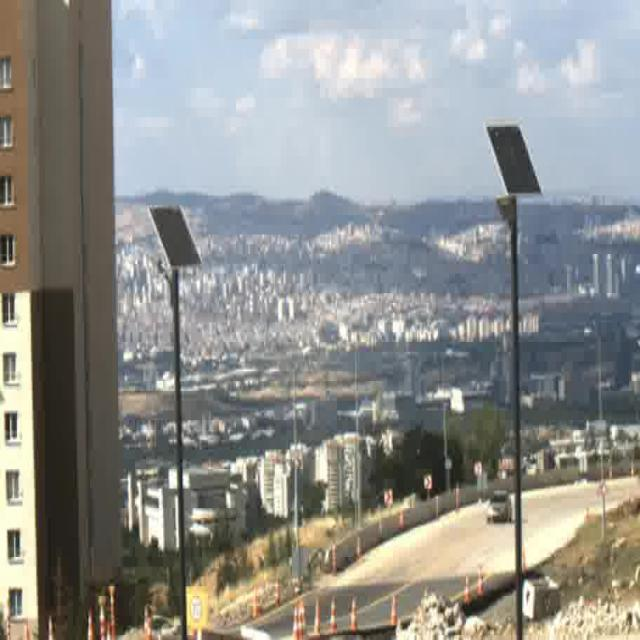Car: (486, 491, 513, 524)
